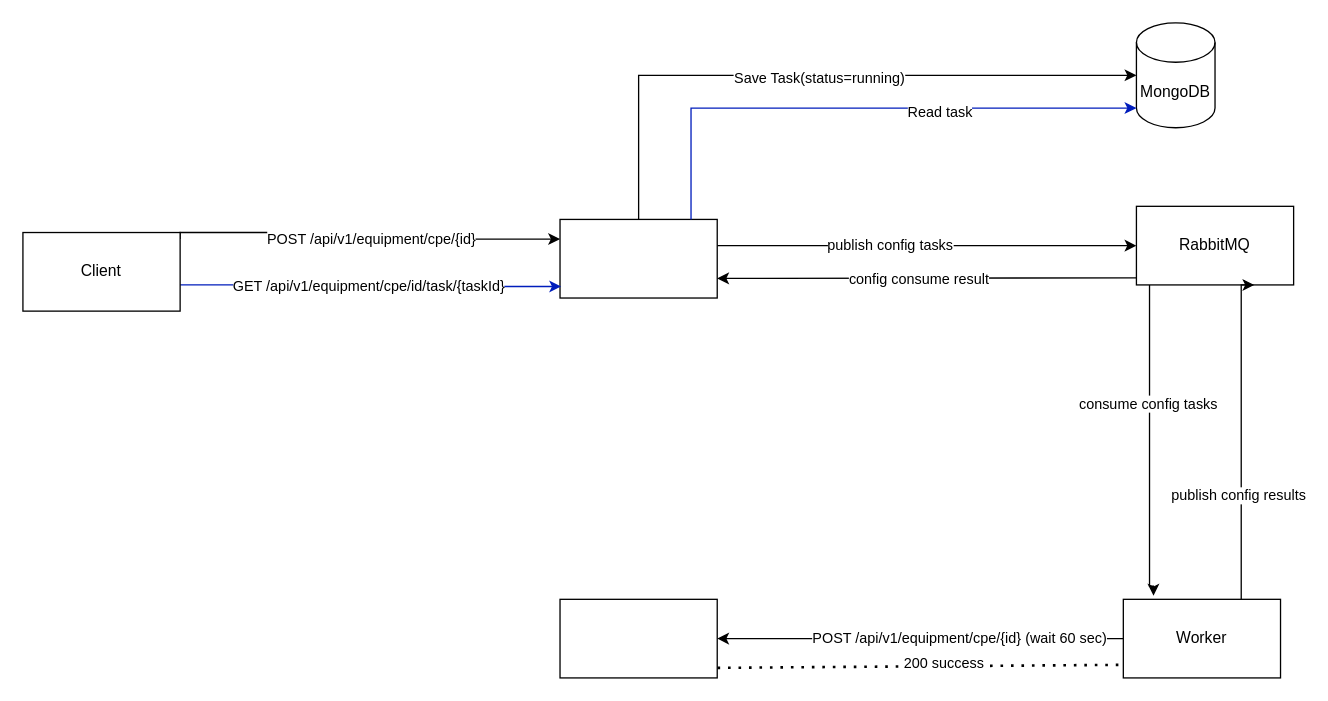
Image size: 1328x701. Some labels were removed from this diagram. Here are the shapes that lost their labels. From the top down, the centre of each, then its label:
At (x=638, y=258): "Service B".
At (x=638, y=638): "Service A".
